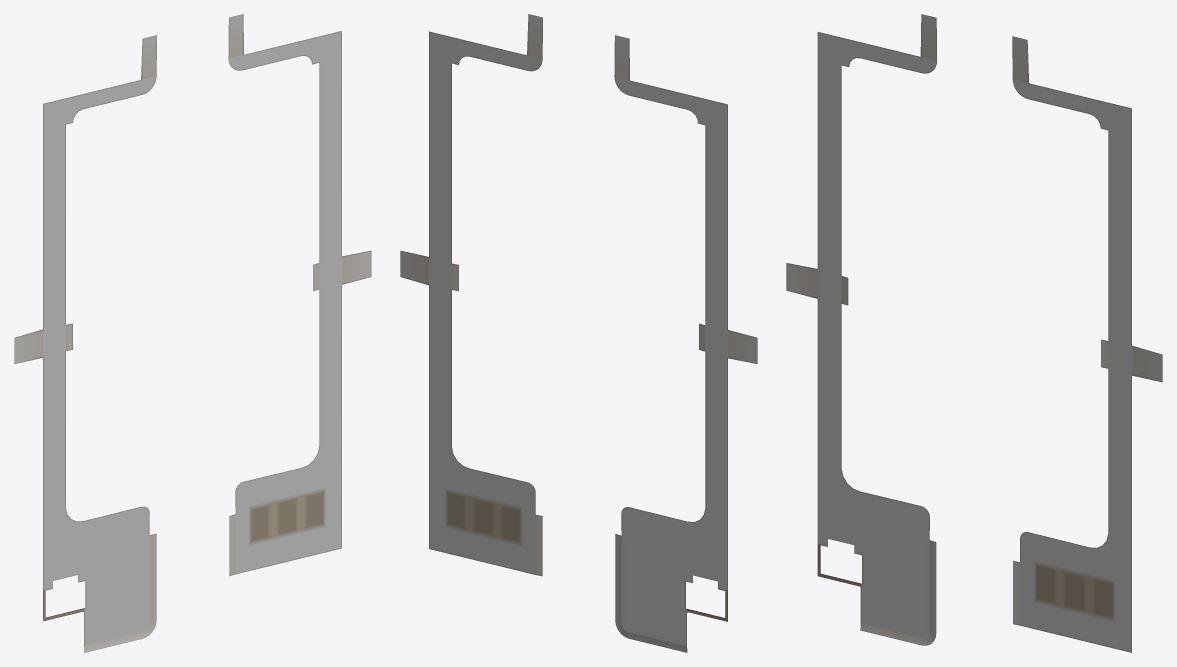
The model's file is SM_000436_tile03__001.fbx.
3 renders of one model, left to right at view 1: azimuth 30°, elevation 25°; view 2: azimuth 150°, elevation 25°; view 3: azimuth 330°, elevation 25°, orthographic. The views are drawn at different scales.
Parts seen in each view (by area): view 1: SM_000436.001; view 2: SM_000436.001; view 3: SM_000436.001.
Part boxes in pixels (<box>): SM_000436.001: <box>14,14,371,652</box>; SM_000436.001: <box>400,14,757,652</box>; SM_000436.001: <box>786,14,1162,652</box>.
Bounding box in the file's own units: 70.7 × 113 × 0.1463.
